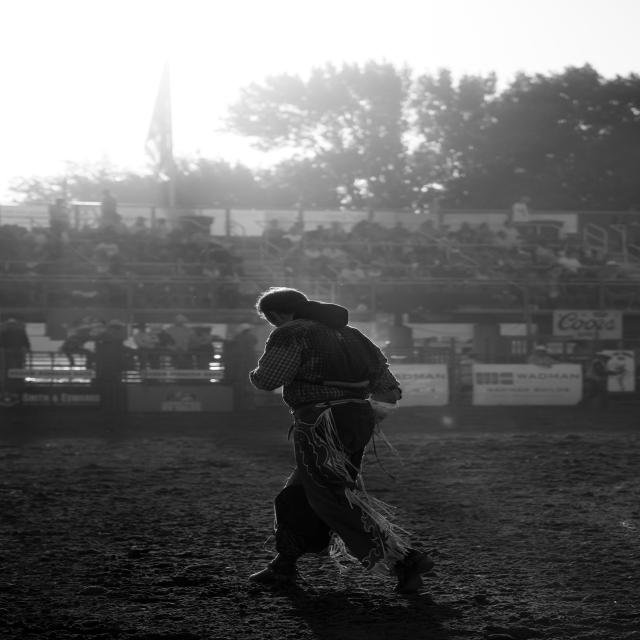running: (240, 283, 442, 597)
